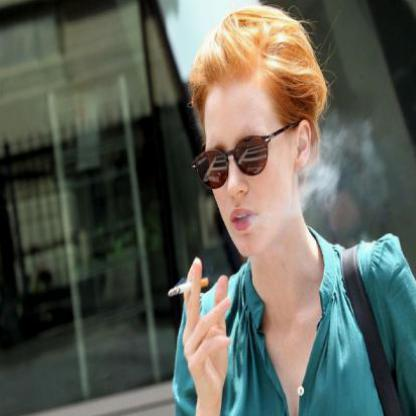cigarette: (168, 274, 210, 296)
person: (186, 9, 408, 415)
smoke: (306, 133, 348, 206)
